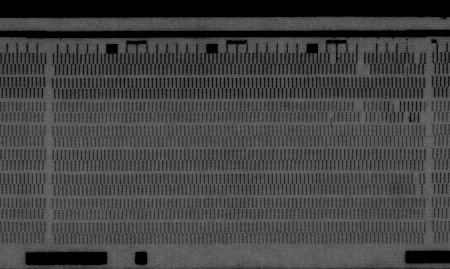Broken hole: (354, 53, 372, 76), (351, 101, 369, 124), (410, 173, 424, 195), (328, 51, 340, 65), (411, 52, 423, 65), (390, 100, 402, 113), (400, 110, 412, 123)
Oblique printing: (324, 110, 336, 124)
